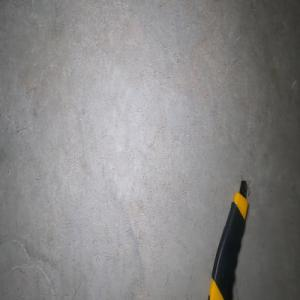Cutter: (206, 178, 248, 300)
